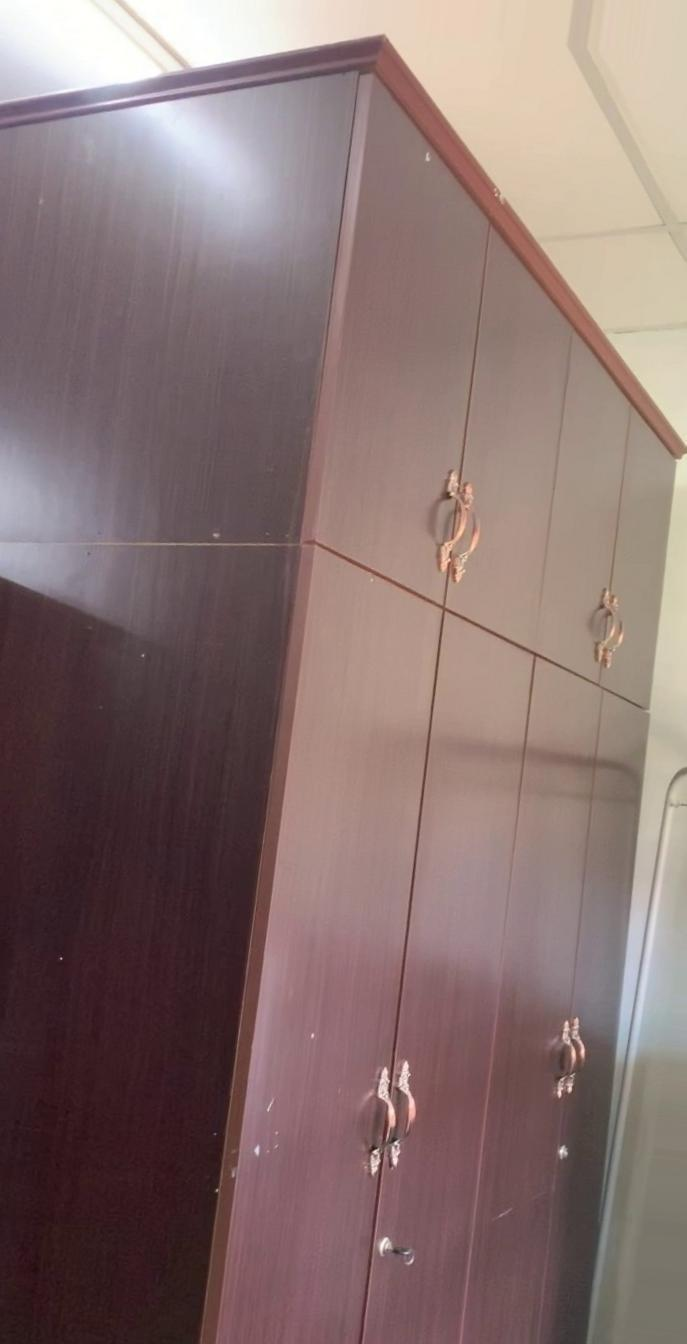Armario: (5, 26, 677, 1325)
